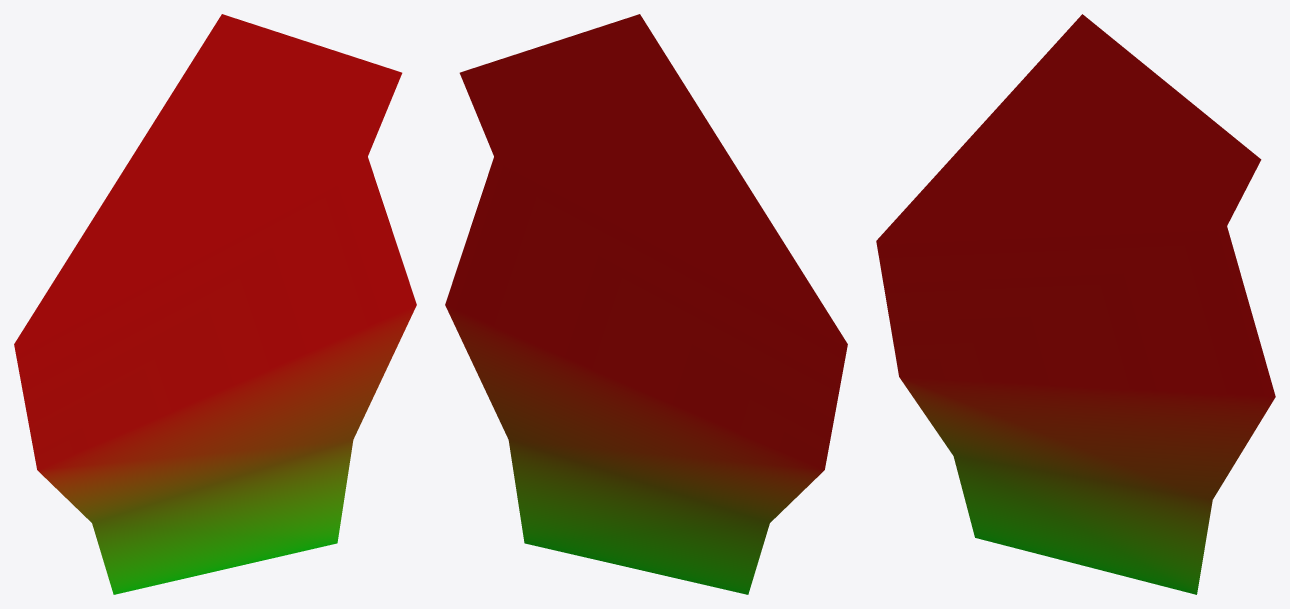
The model's file is White Everlasting_LOD5_Var3_ucvobbbia.fbx.
The picture shows the model from 3 angles, left to right: view 1: azimuth 30°, elevation 25°; view 2: azimuth 150°, elevation 25°; view 3: azimuth 330°, elevation 25°; orthographic projection.
Visible parts, largest first — view 1: _d643_Var3_LOD5; view 2: _d643_Var3_LOD5; view 3: _d643_Var3_LOD5.
Part boxes in pixels (x1,y1,x2,y2): _d643_Var3_LOD5: (14, 14, 416, 594); _d643_Var3_LOD5: (445, 14, 847, 594); _d643_Var3_LOD5: (876, 14, 1275, 594).
Size of the model in its own units: 48.35 by 63.95 by 8.46e-06.
